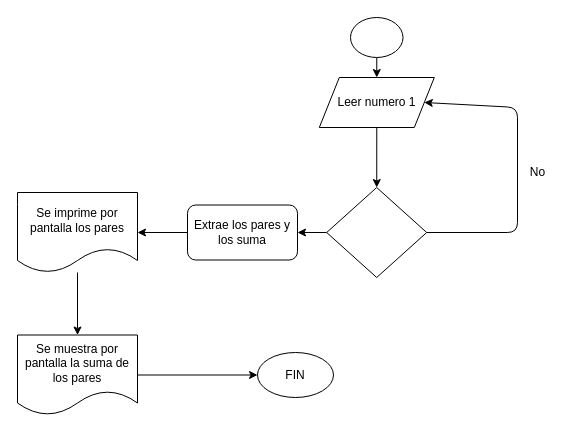
The diagram is 575 pixels wide and 433 high, and some of its shapes have lost their labels. Here are the shapes that lost their labels. From the top down, the centre of each, then its label:
At [376,37]: "Inicio".
At [376,232]: "Es el numero valido?".
